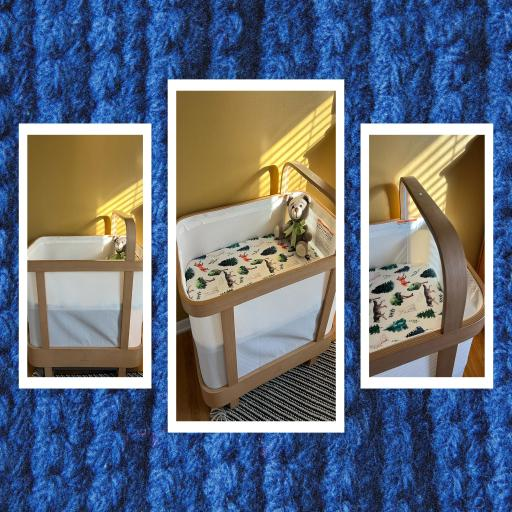crib: (177, 162, 335, 407), (369, 177, 484, 376), (28, 211, 142, 376)
